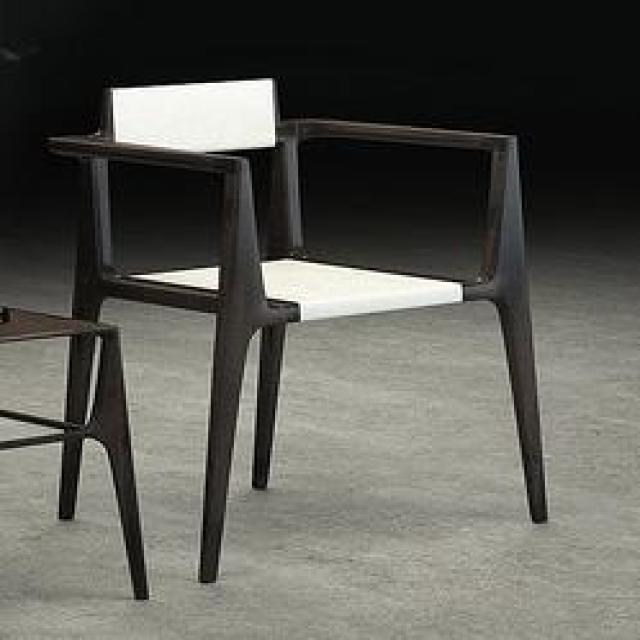chair: (43, 77, 556, 587)
